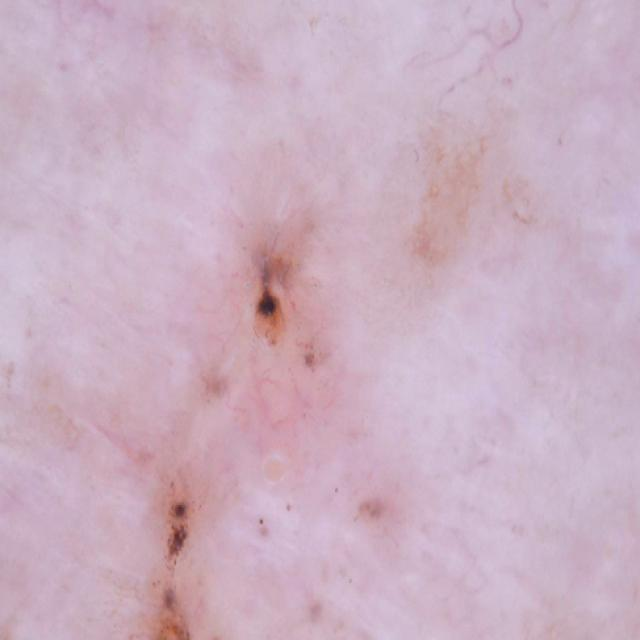Carcinoma: (143, 412, 239, 640), (241, 215, 339, 401)
